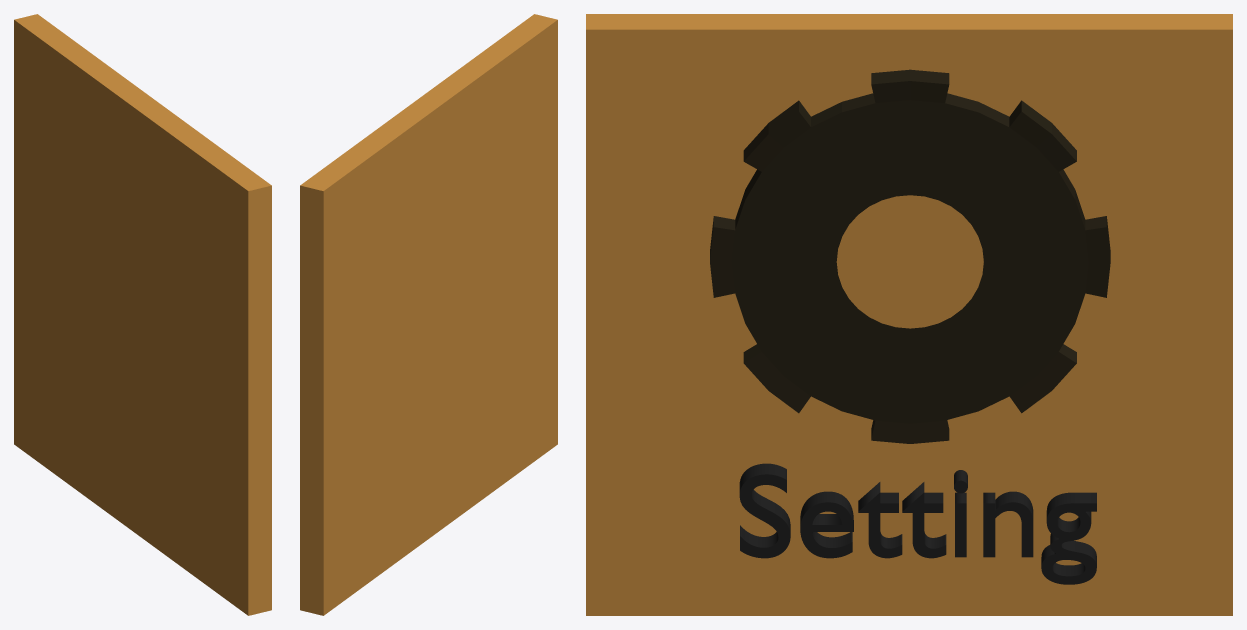
File: Setting Button.fbx
The picture shows the model from 3 angles, left to right: view 1: azimuth 30°, elevation 25°; view 2: azimuth 150°, elevation 25°; view 3: azimuth 270°, elevation 25°; orthographic projection. The views are drawn at different scales.
Visible parts, largest first — view 1: Setting Button; view 2: Setting Button; view 3: Setting Button, Cylinder, S.
Part boxes in pixels (x1,y1,x2,y2): Setting Button: [14, 14, 271, 615]; Setting Button: [300, 14, 557, 615]; Setting Button: [586, 14, 1232, 615]; Cylinder: [710, 69, 1110, 443]; S: [739, 463, 1096, 584].
Size of the model in its own units: 25.93 by 262 by 262.
